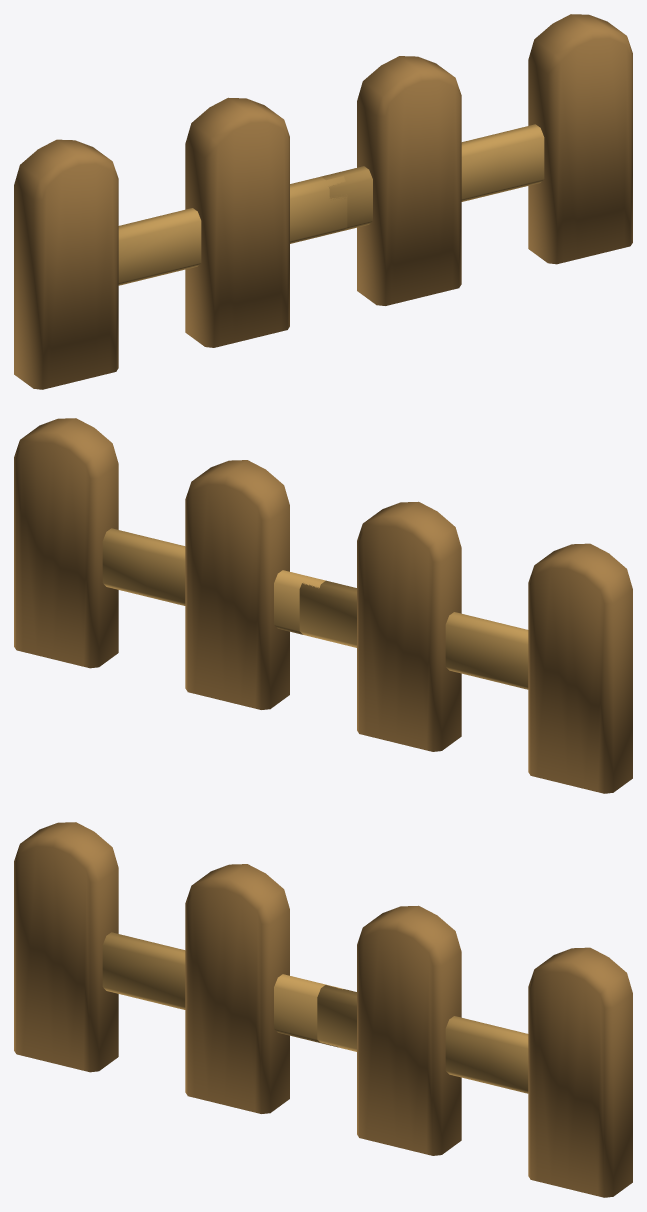
Rendered from wood01.glb.
The picture shows the model from 3 angles, top to bottom: view 1: azimuth 30°, elevation 25°; view 2: azimuth 150°, elevation 25°; view 3: azimuth 330°, elevation 25°; orthographic projection.
Visible parts, largest first — view 1: Cube_Grass_SideBottom_Tall.044_0.002; view 2: Cube_Grass_SideBottom_Tall.044_0.002; view 3: Cube_Grass_SideBottom_Tall.044_0.002.
Part boxes in pixels (bbox=[...]): Cube_Grass_SideBottom_Tall.044_0.002: bbox=[14, 14, 632, 389]; Cube_Grass_SideBottom_Tall.044_0.002: bbox=[14, 418, 632, 793]; Cube_Grass_SideBottom_Tall.044_0.002: bbox=[14, 822, 632, 1197].
Bounding box in the file's own units: 3.25 × 1.16 × 0.2459.
